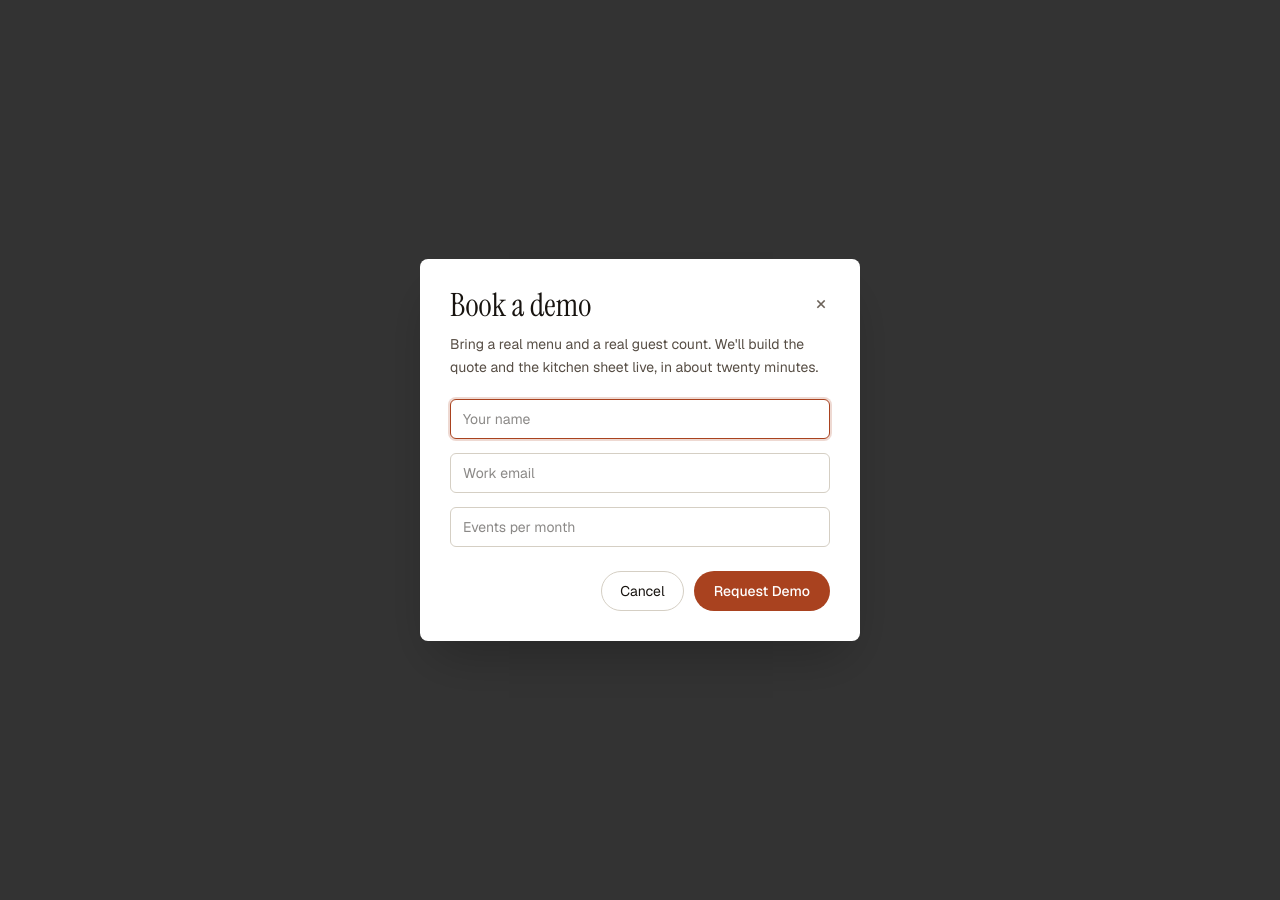
Scenario: DemoModal (REL-482) › falls back to a generic message when the failure carries no detail
In the field labelled "Your name": [640, 418] box [450,398,830,438], type "Jane Doe"
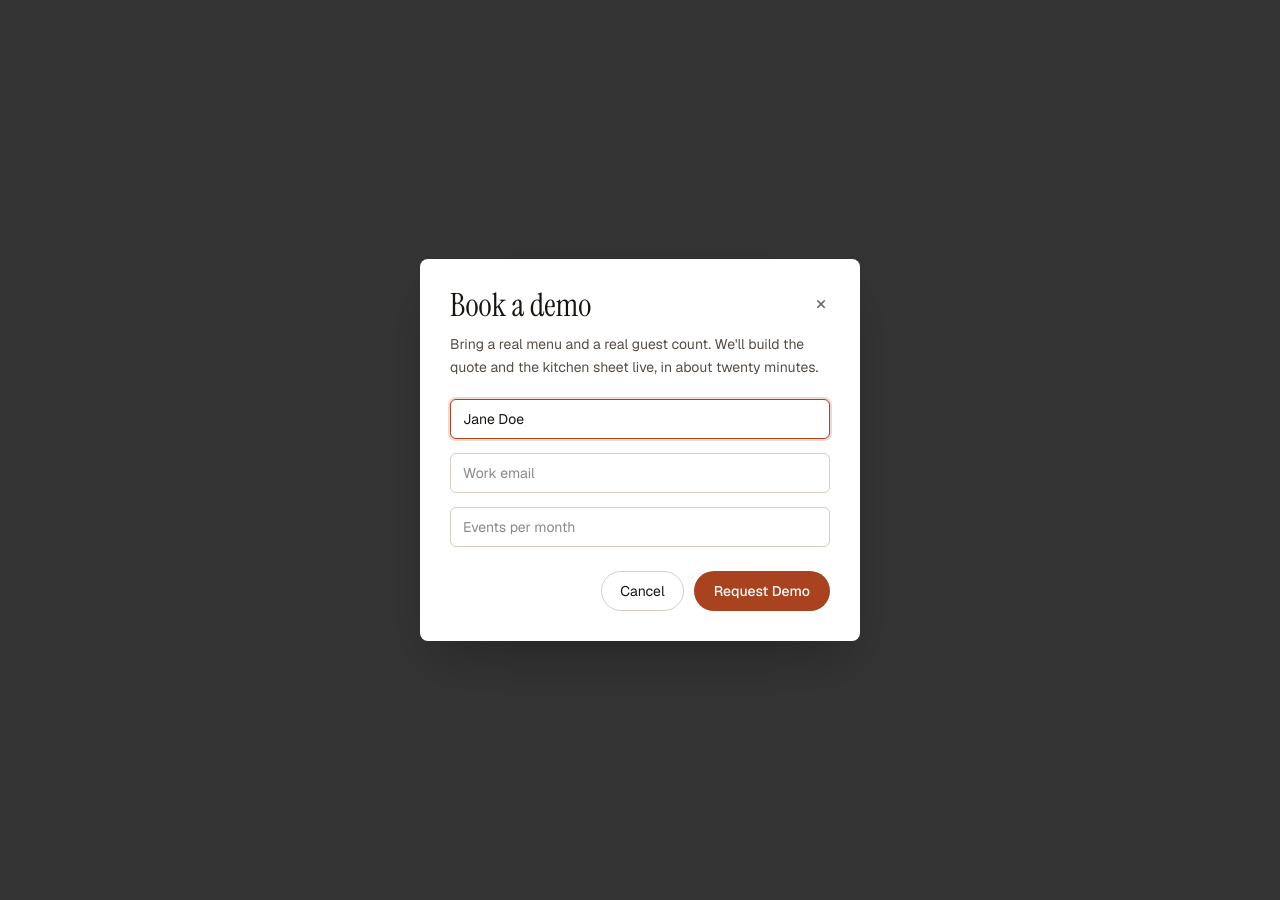
In the field labelled "Work email": [640, 472] box [450,452,830,492], type "jane@kitchen.com"
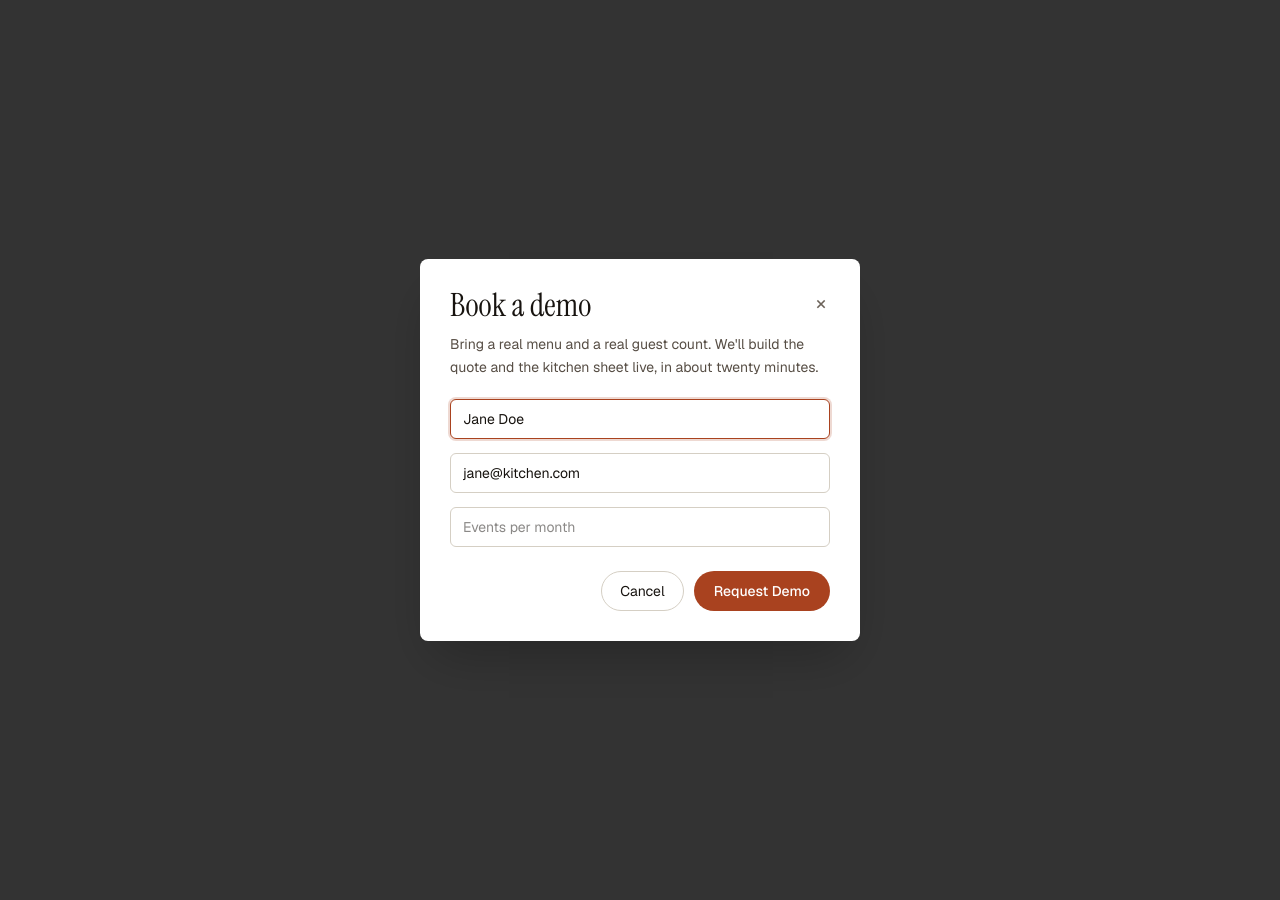
Click the button "Request Demo": [762, 590] box [694,570,830,610]
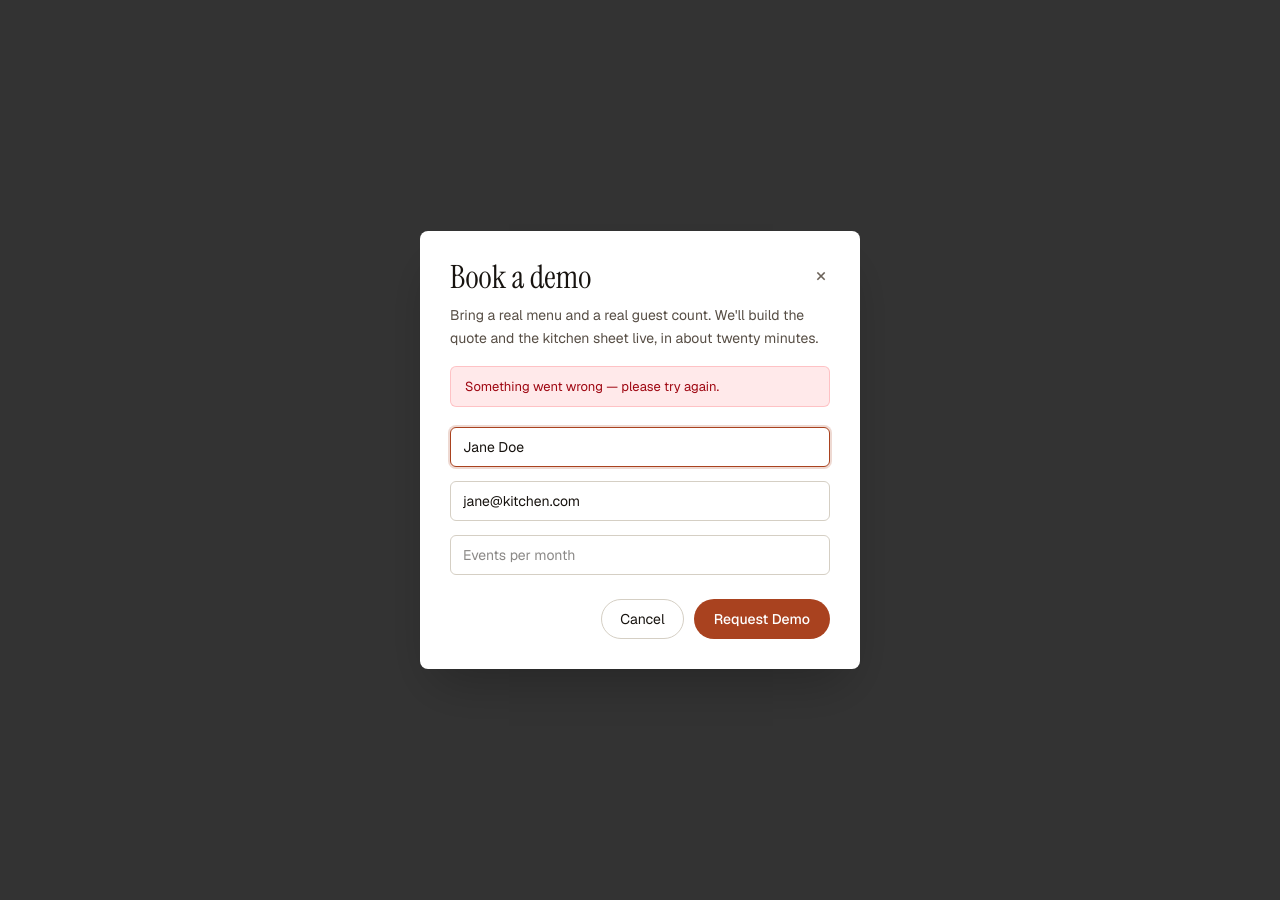
Expected: the text "Something went wrong — please try again." is shown, [450,366,830,407]
